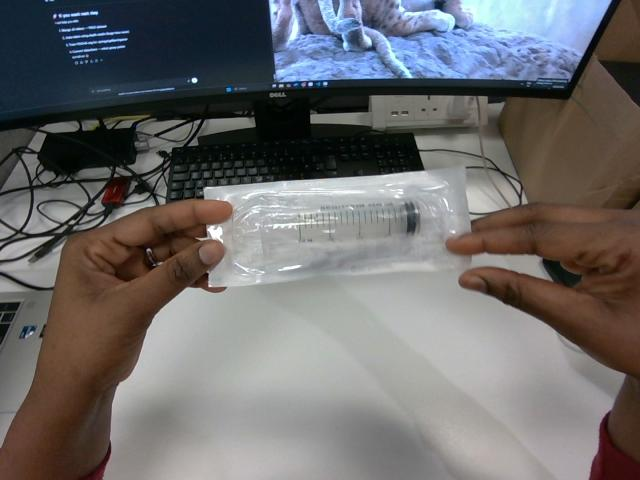syringe: (205, 167, 469, 285)
